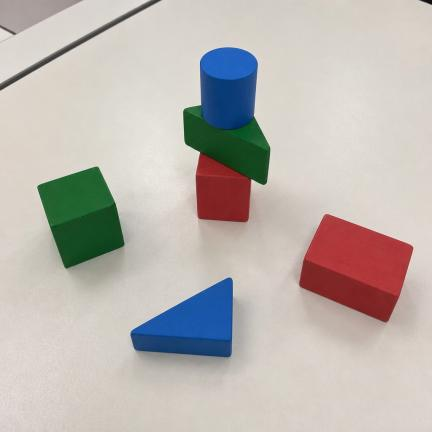BuildingBlocks: (184, 48, 270, 221), (300, 215, 413, 321), (38, 168, 124, 267), (131, 279, 232, 356), (184, 106, 270, 184), (200, 48, 257, 129), (196, 154, 251, 221)
